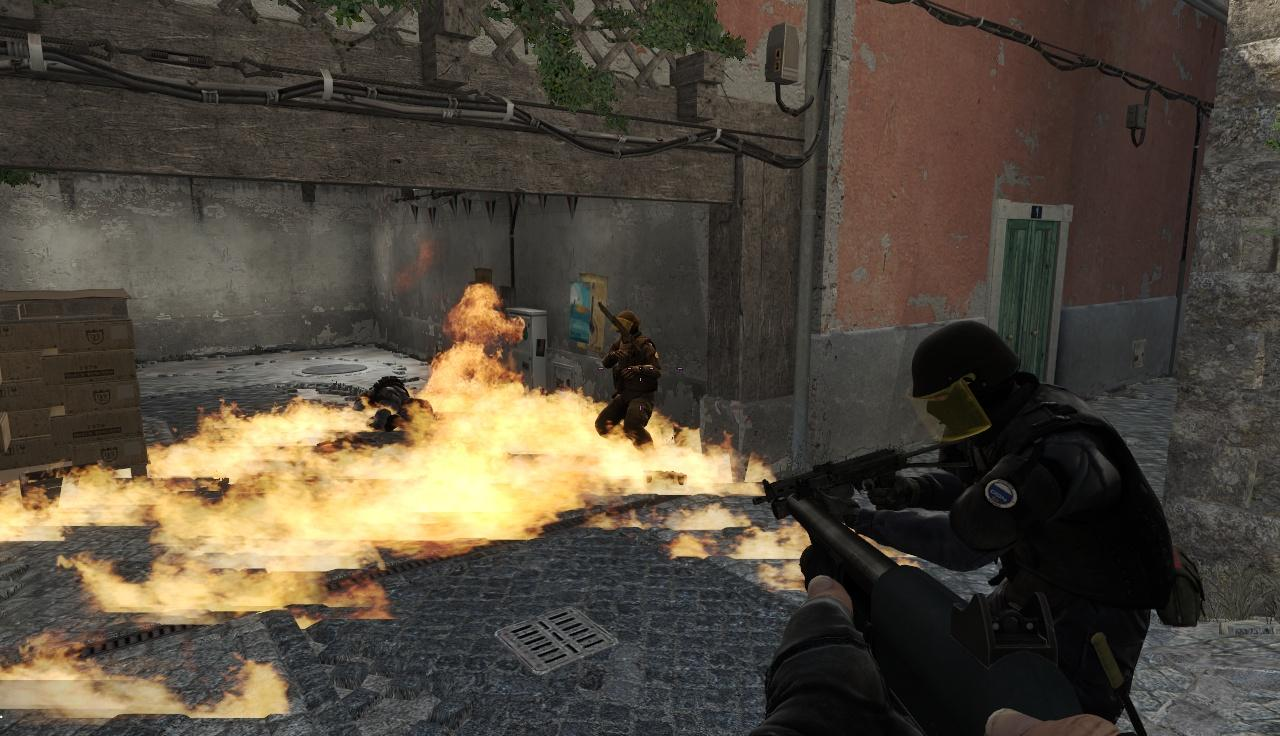ct: (876, 328, 1170, 550)
cthead: (908, 321, 1017, 445)
shotgun: (775, 497, 1106, 736)
